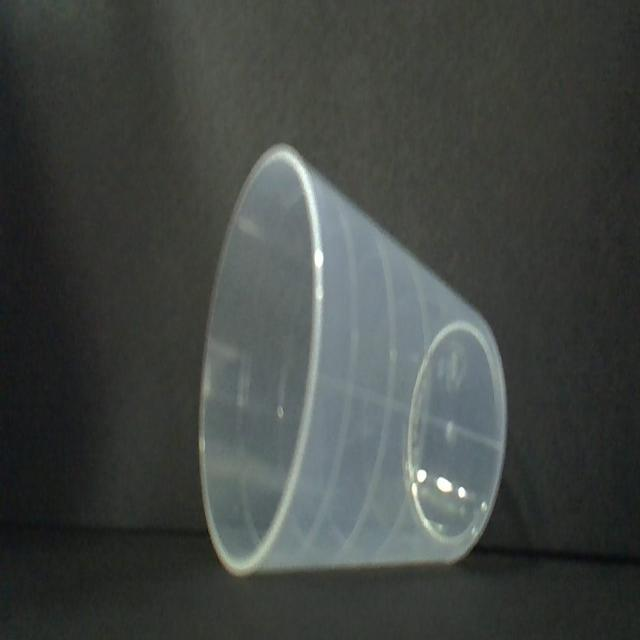cup: (192, 142, 508, 574)
